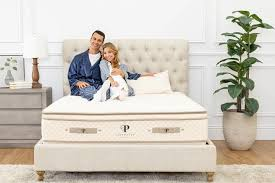bed-matress: (41, 87, 207, 143)
